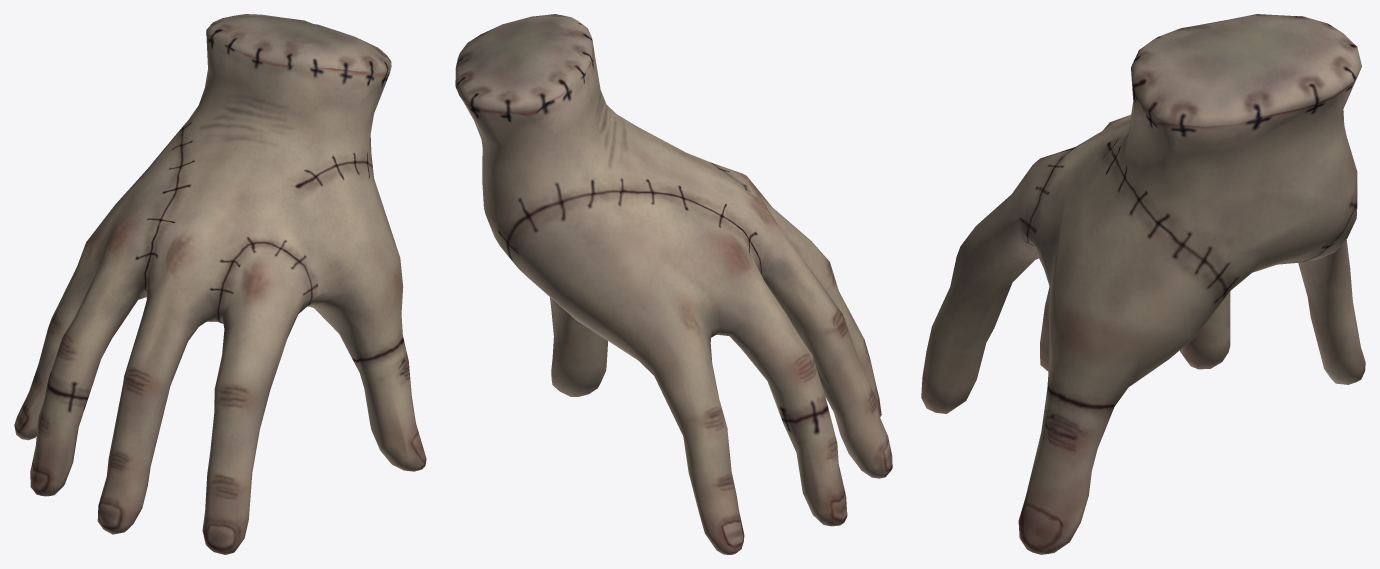
Rendered from hand of wensday  .fbx.
3 renders of one model, left to right at view 1: azimuth 30°, elevation 25°; view 2: azimuth 150°, elevation 25°; view 3: azimuth 270°, elevation 25°, orthographic. The views are drawn at different scales.
Parts seen in each view (by area): view 1: hand_wensday low; view 2: hand_wensday low; view 3: hand_wensday low.
Part boxes in pixels (x1,y1,x2,y2): hand_wensday low: (14, 14, 426, 554); hand_wensday low: (455, 14, 892, 554); hand_wensday low: (921, 14, 1365, 554).
Size of the model in its own units: 21.06 by 22.72 by 18.6.
